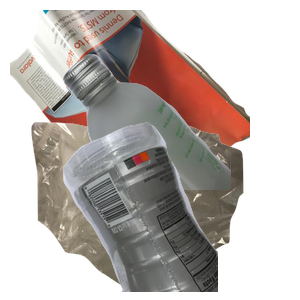glass: (60, 51, 300, 231)
paper: (10, 10, 250, 190)
plastic: (60, 120, 300, 300)
trash: (29, 120, 265, 300)
